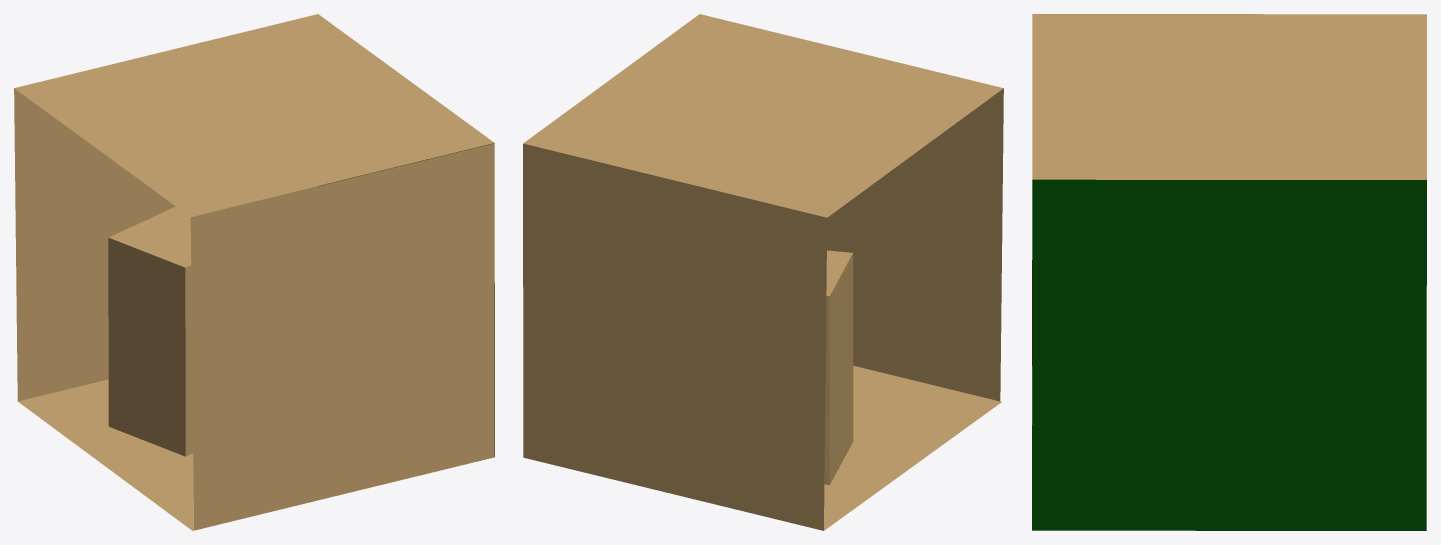
File: cornell-box.obj
3 views of the same model, side by side, from view 1: azimuth 30°, elevation 25°; view 2: azimuth 150°, elevation 25°; view 3: azimuth 270°, elevation 25° (orthographic). The views are drawn at different scales.
Parts seen in each view (by area): view 1: front_wall, ceiling, back_wall, tall_box, floor; view 2: back_wall, ceiling, front_wall, floor, tall_box; view 3: right_wall, ceiling.
Part boxes in pixels (left/top/right/bottom): front_wall: left=190, top=143, right=494, bottom=530; ceiling: left=14, top=14, right=494, bottom=216; back_wall: left=14, top=88, right=317, bottom=401; tall_box: left=108, top=206, right=202, bottom=456; floor: left=18, top=379, right=489, bottom=530; back_wall: left=523, top=143, right=827, bottom=530; ceiling: left=523, top=14, right=1003, bottom=217; front_wall: left=827, top=88, right=1003, bottom=401; floor: left=824, top=365, right=1001, bottom=530; tall_box: left=824, top=250, right=853, bottom=484; right_wall: left=1032, top=179, right=1426, bottom=530; ceiling: left=1032, top=14, right=1426, bottom=179.
Bounding box in the file's own units: 5.56 × 5.49 × 5.6.
